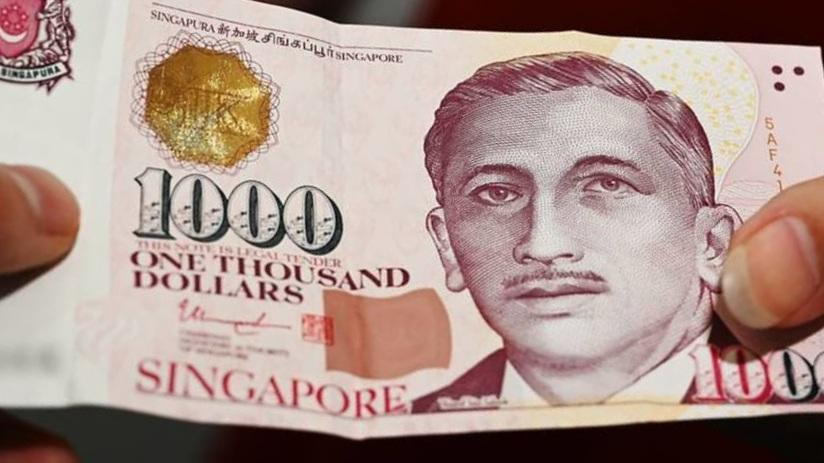1000SingaporeDollar: (0, 0, 824, 410)
